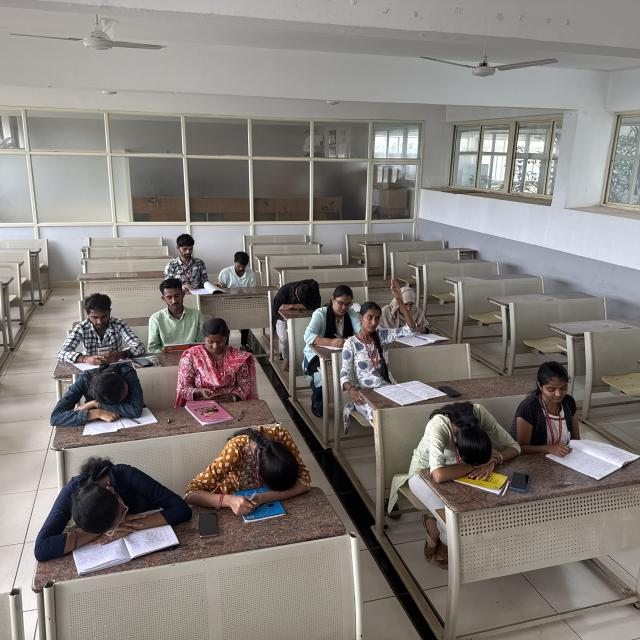Hand Rising: (349, 277, 414, 376)
Reading: (150, 280, 207, 356), (165, 234, 216, 298)
Sleeping: (37, 455, 186, 533), (197, 420, 313, 490), (420, 402, 526, 474), (51, 360, 152, 414), (273, 277, 321, 315)
Using Phone: (56, 295, 142, 368), (181, 318, 253, 402)
Writing: (517, 362, 615, 472), (311, 283, 362, 352)
